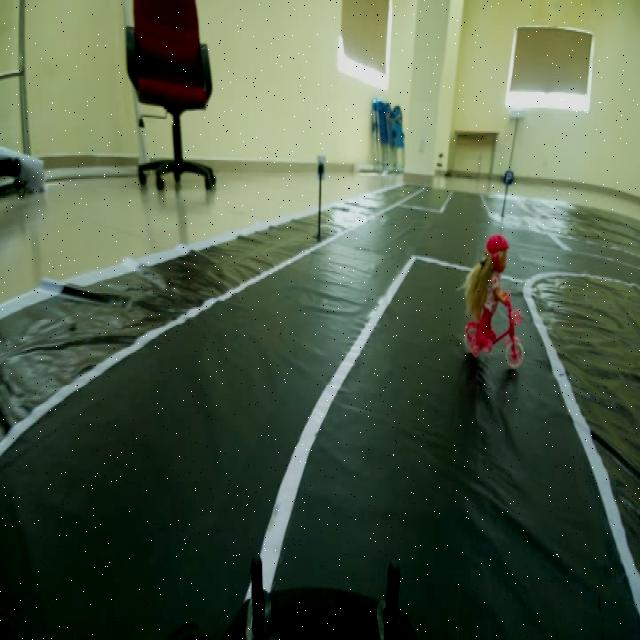pedestrian: (465, 228, 527, 372)
